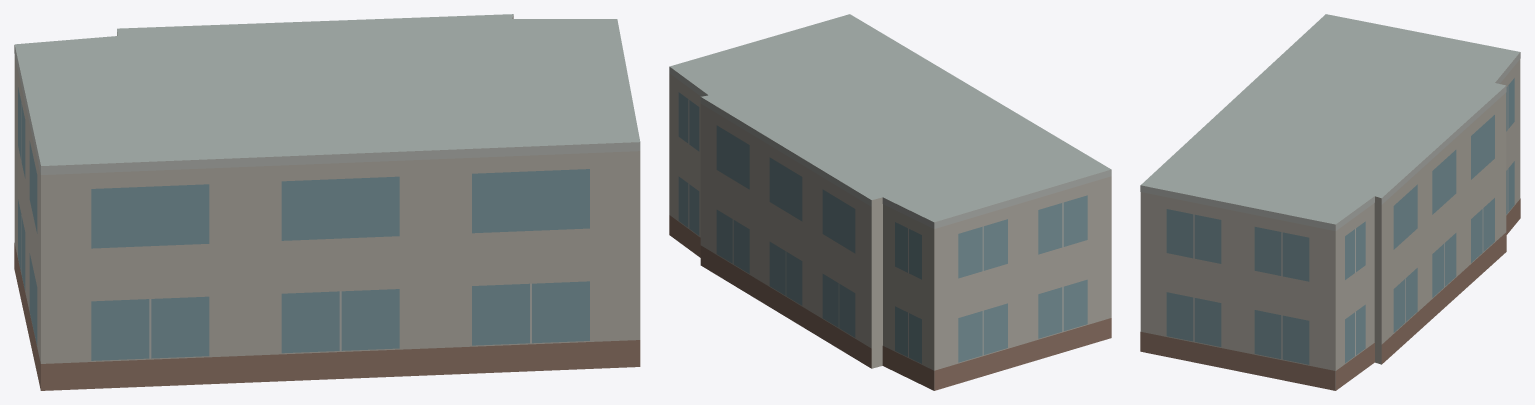
The model's file is survey-upis-32579368.glb.
3 renders of one model, left to right at view 1: azimuth 30°, elevation 25°; view 2: azimuth 150°, elevation 25°; view 3: azimuth 270°, elevation 25°, orthographic. The views are drawn at different scales.
Parts seen in each view (by area): view 1: survey-upis-32579368.tmp; view 2: survey-upis-32579368.tmp; view 3: survey-upis-32579368.tmp.
Part boxes in pixels (x1,y1,x2,y2): survey-upis-32579368.tmp: (14, 14, 640, 390); survey-upis-32579368.tmp: (669, 14, 1111, 390); survey-upis-32579368.tmp: (1140, 14, 1520, 390).
Size of the model in its own units: 16.57 by 6.1 by 12.64.
